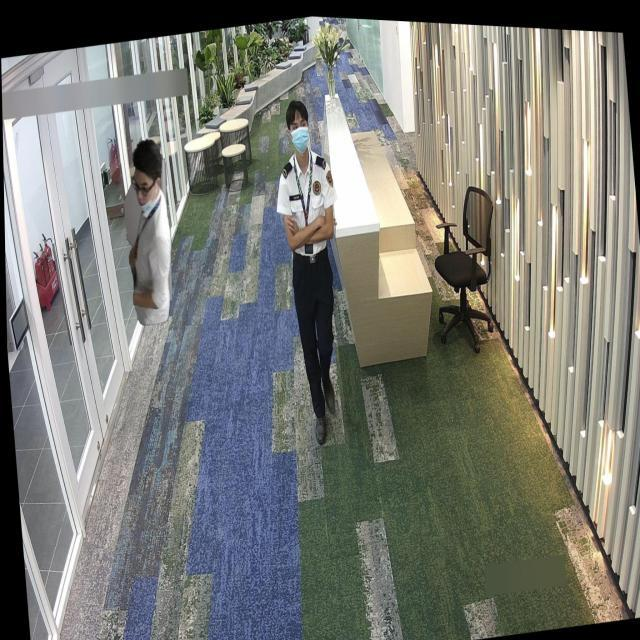hairnet: (134, 168, 158, 212)
